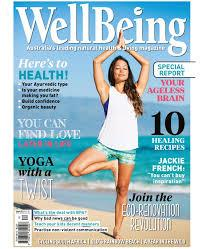Printing industry: (16, 5, 203, 249)
